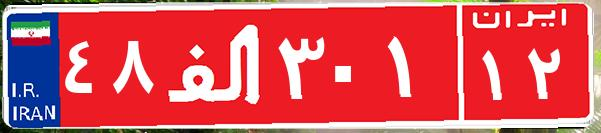0: (330, 28, 385, 110)
1: (385, 28, 445, 110), (475, 38, 525, 113)
2: (525, 38, 570, 115)
3: (273, 28, 330, 110)
4: (57, 26, 110, 107)
8: (110, 28, 158, 105)
الف: (158, 15, 273, 115)
